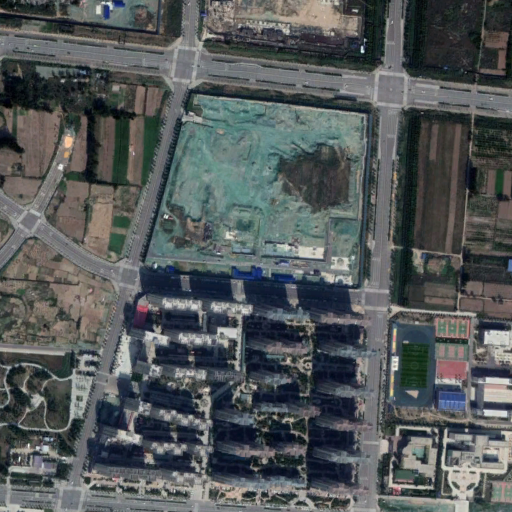cw: (144, 92, 371, 291)
